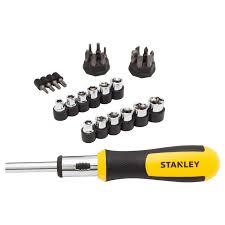screwdriver: (3, 143, 219, 182), (135, 54, 142, 70), (45, 81, 55, 91), (52, 79, 61, 89), (39, 84, 48, 94), (83, 49, 89, 61), (59, 77, 66, 87), (94, 41, 100, 52), (146, 54, 151, 67), (90, 52, 95, 65), (100, 51, 105, 63), (143, 45, 148, 55), (150, 49, 153, 63)
